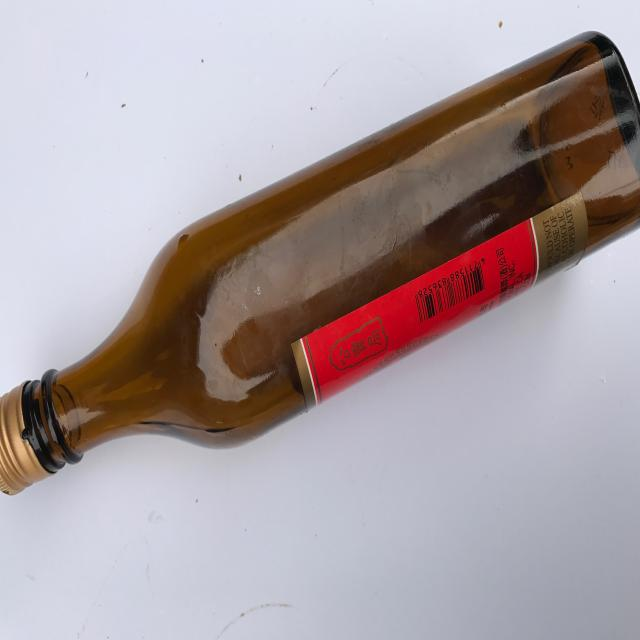glass: (1, 30, 640, 496)
